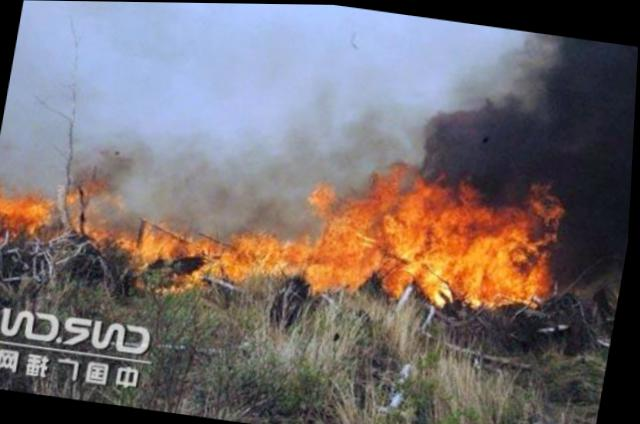fire: (0, 106, 575, 348)
